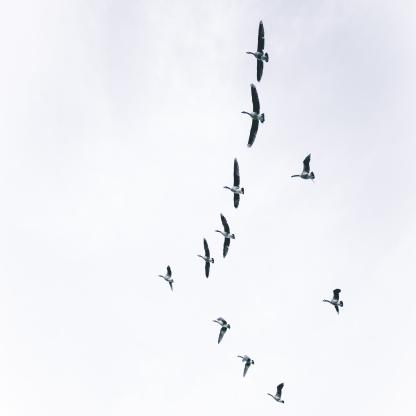bird: (242, 83, 266, 148), (246, 20, 269, 82), (224, 157, 244, 209), (214, 212, 235, 259), (291, 153, 315, 184), (197, 237, 214, 279), (323, 289, 343, 315), (212, 317, 231, 344), (158, 265, 174, 292), (237, 355, 254, 378), (267, 382, 284, 404)
